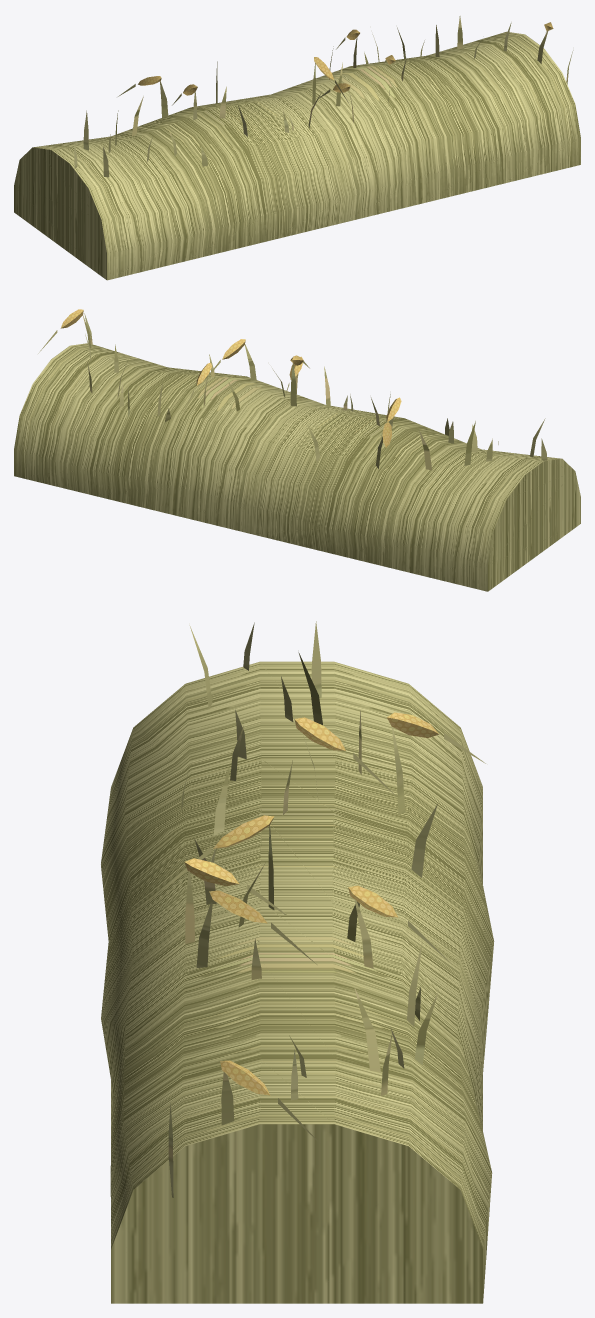
File: SE_Crop_Barley.glb
The picture shows the model from 3 angles, top to bottom: view 1: azimuth 30°, elevation 25°; view 2: azimuth 150°, elevation 25°; view 3: azimuth 270°, elevation 25°; orthographic projection. The views are drawn at different scales.
Parts seen in each view (by area): view 1: SE_Crop_Barley; view 2: SE_Crop_Barley; view 3: SE_Crop_Barley.
Part boxes in pixels (x1,y1,x2,y2): SE_Crop_Barley: (14,16,580,280); SE_Crop_Barley: (14,309,580,591); SE_Crop_Barley: (101,621,494,1303).
Bounding box in the file's own units: 2.07 × 0.5421 × 0.7188.
Materials: 1 (1 with a texture image).
